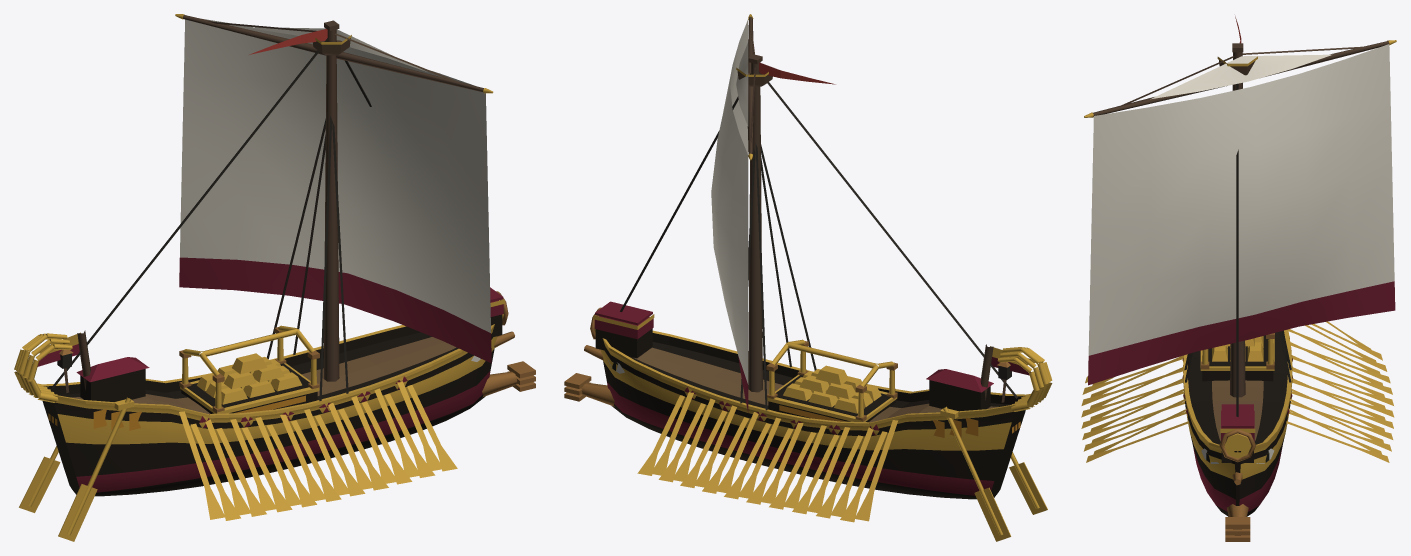
File: titan_xaut.glb
The picture shows the model from 3 angles, left to right: view 1: azimuth 30°, elevation 25°; view 2: azimuth 150°, elevation 25°; view 3: azimuth 270°, elevation 25°; orthographic projection. The views are drawn at different scales.
Parts seen in each view (by area): view 1: sail_main, hull, oars, deck, mast, rigging, yards, flag, stern_windows, sail_extra; view 2: hull, deck, oars, sail_main, mast, rigging, stern_windows, flag, yards, sail_extra; view 3: sail_main, hull, oars, deck, sail_extra, yards, mast, rigging.
Boxes of the visible parts, bbox=[...] form: sail_main: bbox=[179, 18, 491, 363]; hull: bbox=[14, 324, 535, 496]; oars: bbox=[179, 381, 457, 520]; deck: bbox=[19, 287, 508, 541]; mast: bbox=[77, 20, 351, 390]; rigging: bbox=[51, 38, 371, 401]; yards: bbox=[175, 14, 493, 93]; flag: bbox=[32, 29, 327, 366]; stern_windows: bbox=[48, 395, 305, 430]; sail_extra: bbox=[243, 27, 426, 71]; hull: bbox=[564, 330, 1052, 499]; deck: bbox=[590, 301, 1047, 541]; oars: bbox=[637, 392, 898, 522]; sail_main: bbox=[711, 19, 748, 412]; mast: bbox=[736, 54, 993, 400]; rigging: bbox=[620, 71, 1017, 410]; stern_windows: bbox=[779, 405, 1020, 437]; flag: bbox=[759, 62, 1034, 375]; yards: bbox=[747, 14, 755, 160]; sail_extra: bbox=[736, 42, 748, 126]; sail_main: bbox=[1088, 44, 1395, 385]; hull: bbox=[1182, 329, 1292, 541]; oars: bbox=[1081, 321, 1394, 462]; deck: bbox=[1200, 333, 1274, 462]; sail_extra: bbox=[1150, 54, 1332, 99]; yards: bbox=[1084, 40, 1396, 117]; mast: bbox=[1217, 43, 1257, 397]; rigging: bbox=[1184, 83, 1291, 416].
Bounding box in the file's own units: 24.71 × 20.13 × 13.43.
